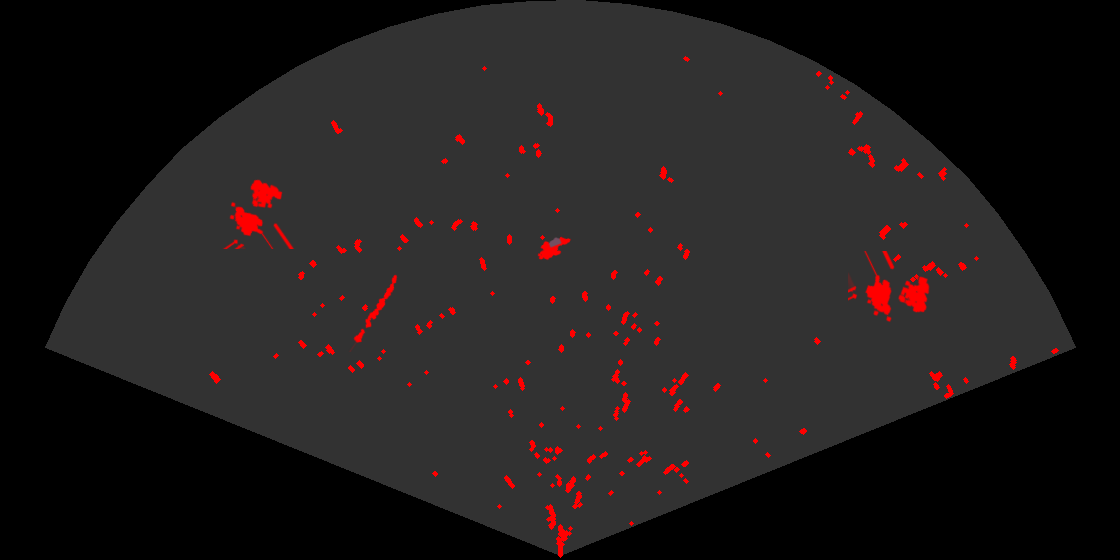AUV: (536, 235, 573, 262)
cage: (848, 251, 931, 324), (221, 178, 296, 249)
chain: (348, 273, 399, 352)
